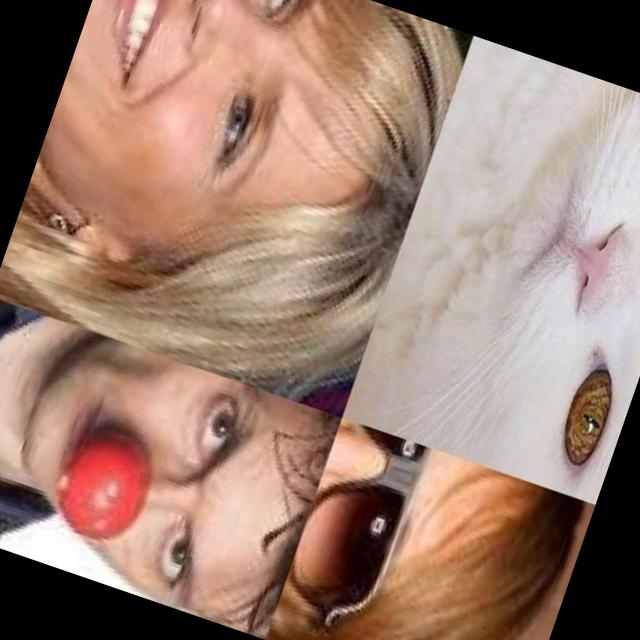bareface: (16, 0, 439, 340)
